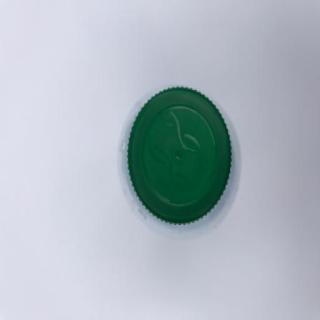Plastic-bottle: (116, 84, 244, 245)
